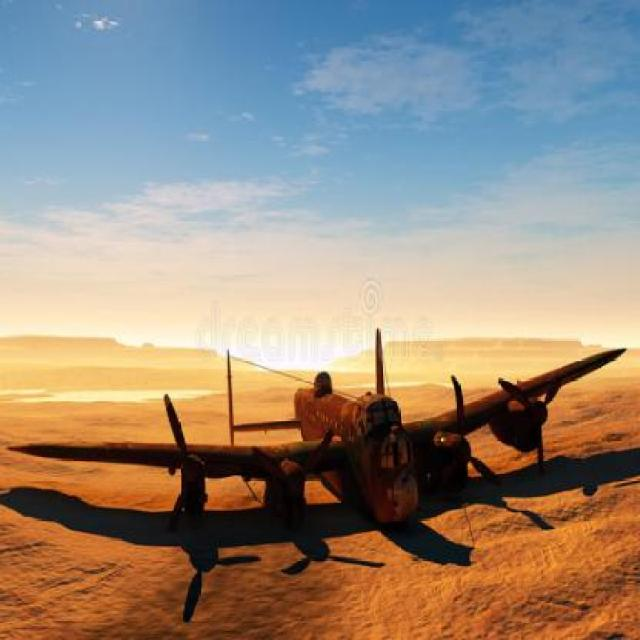corrosion: (8, 328, 626, 542)
